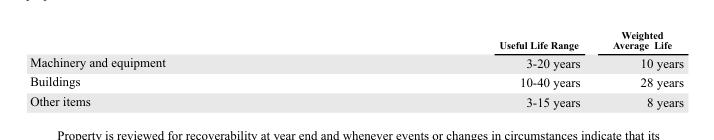table: (29, 28, 682, 108)
table column: (29, 28, 331, 108), (331, 28, 595, 108), (595, 28, 682, 108)
table column header: (29, 28, 682, 52)
table row: (29, 28, 682, 52), (29, 71, 682, 91), (29, 52, 682, 71), (29, 91, 682, 108)
